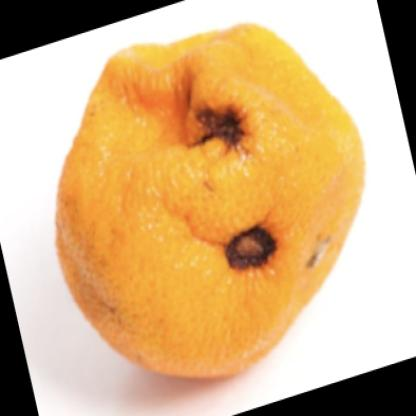rotten: (56, 21, 367, 377)
